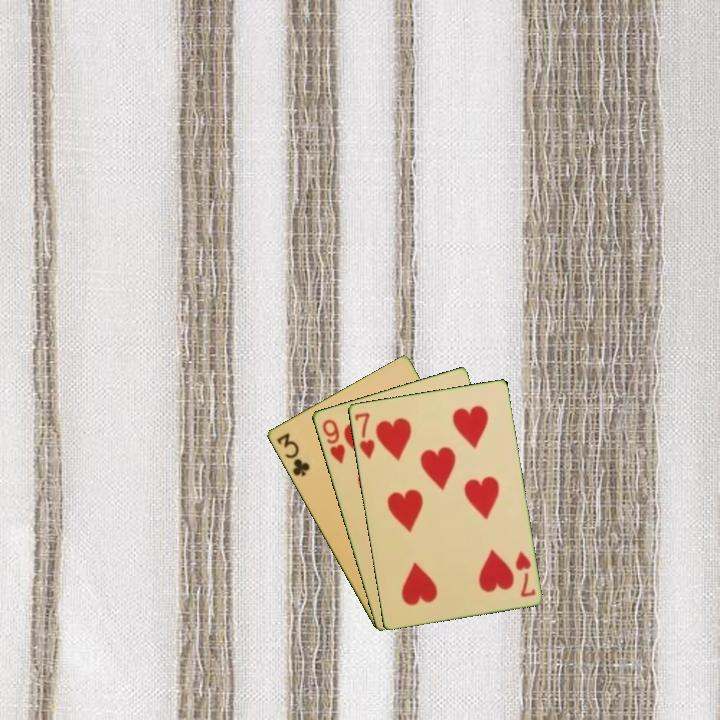3c: (273, 429, 312, 479)
7h: (511, 547, 538, 600), (351, 409, 377, 462)
9h: (318, 415, 348, 467)
